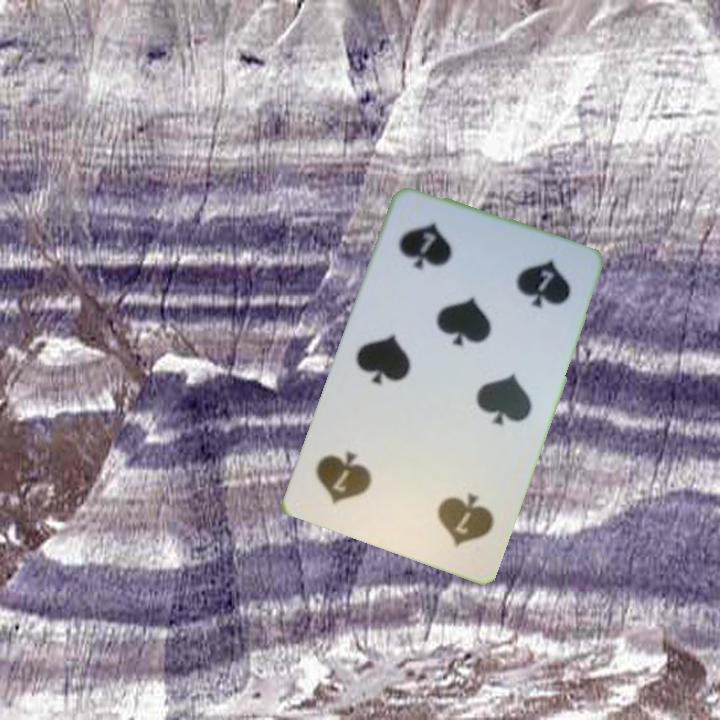s_7.png: (380, 199, 502, 313), (389, 453, 510, 567)
